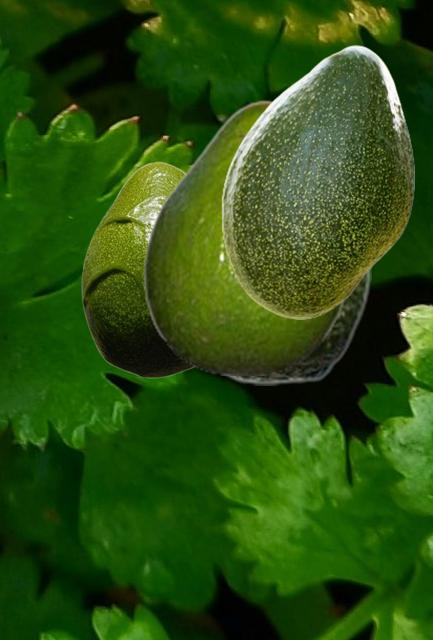avocado: (142, 99, 347, 374), (221, 45, 413, 318), (81, 161, 193, 377), (217, 270, 370, 384)
